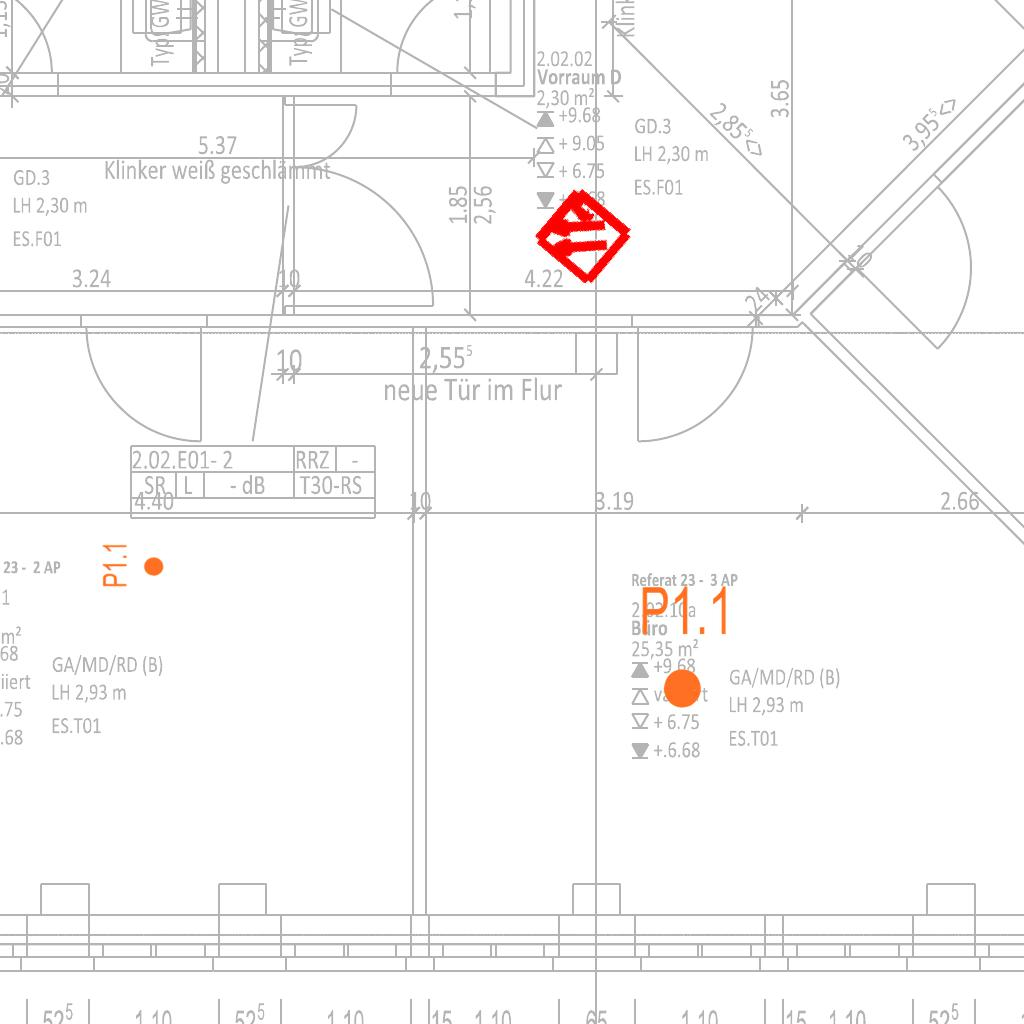Downlight_LED_Einbauleuchten_Flur: (639, 583, 732, 711), (101, 542, 165, 588)
OT_Multisensormelder_(Kombination_RMO_WMD): (501, 154, 662, 315)
